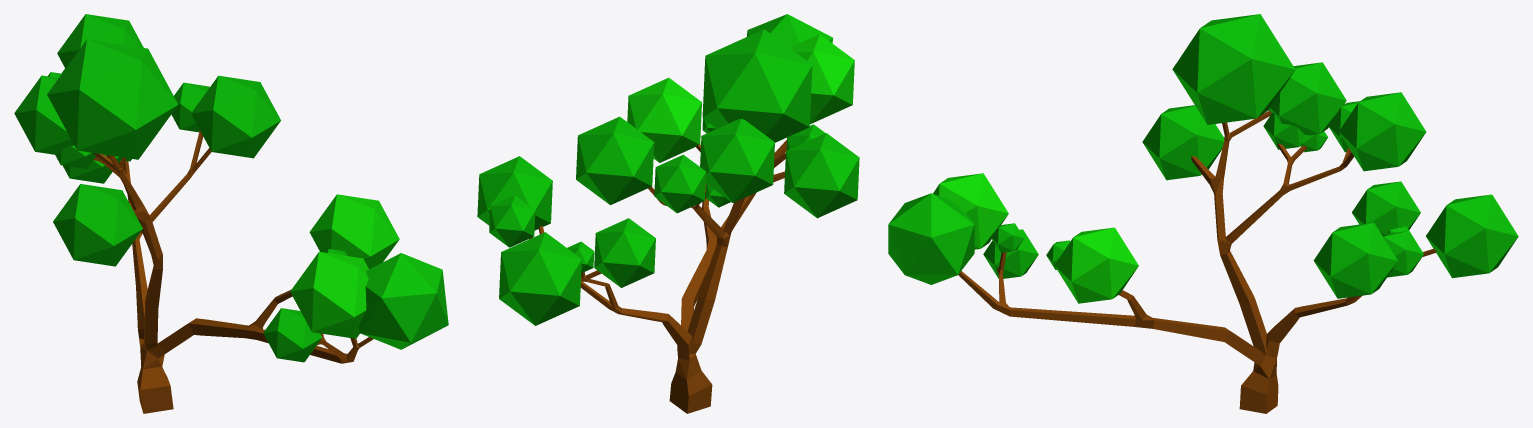
The model's file is Tree2.fbx.
The picture shows the model from 3 angles, left to right: view 1: azimuth 30°, elevation 25°; view 2: azimuth 150°, elevation 25°; view 3: azimuth 270°, elevation 25°; orthographic projection. The views are drawn at different scales.
Visible parts, largest first — view 1: Tree2; view 2: Tree2; view 3: Tree2.
Part boxes in pixels (left/top/right/bottom): Tree2: left=14, top=14, right=448, bottom=413; Tree2: left=477, top=14, right=859, bottom=413; Tree2: left=888, top=14, right=1518, bottom=413.
Size of the model in its own units: 4356 by 5464 by 8594.
